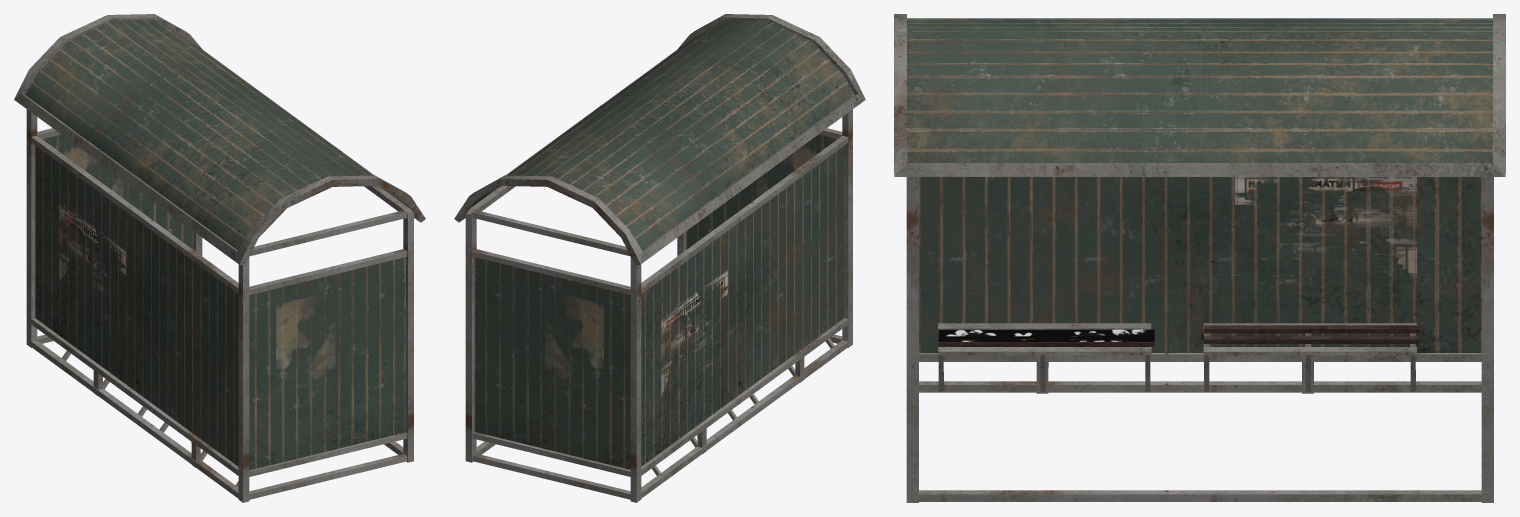
File: bus_stop_-_low.glb
The picture shows the model from 3 angles, left to right: view 1: azimuth 30°, elevation 25°; view 2: azimuth 150°, elevation 25°; view 3: azimuth 270°, elevation 25°; orthographic projection. The views are drawn at different scales.
Visible parts, largest first — view 1: model_st1:polySurface33polySurface38; view 2: model_st1:polySurface33polySurface38; view 3: model_st1:polySurface33polySurface38, pPlane1.
Boxes of the visible parts, x1=… form: model_st1:polySurface33polySurface38: x1=14, y1=14, x2=425, y2=502; model_st1:polySurface33polySurface38: x1=454, y1=14, x2=865, y2=502; model_st1:polySurface33polySurface38: x1=894, y1=14, x2=1505, y2=502; pPlane1: x1=938, y1=329, x2=1154, y2=341.
Bounding box in the file's own units: 14.61 × 22.88 × 30.54.
Materials: 2 (2 with a texture image).
